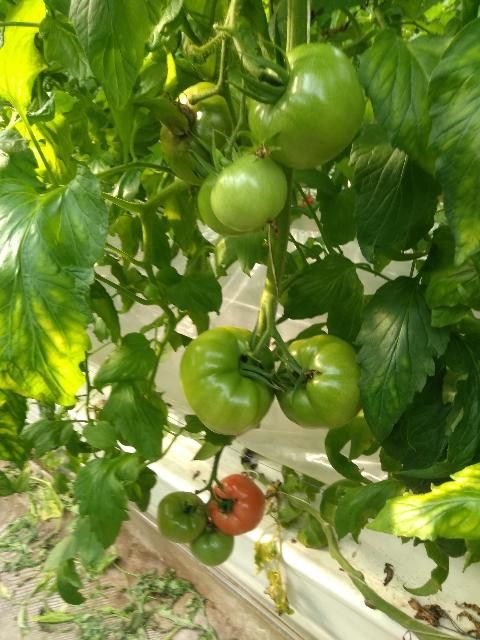b_green: (247, 42, 366, 170), (179, 326, 276, 436), (160, 82, 248, 187), (273, 334, 365, 430), (210, 149, 288, 232), (196, 154, 252, 237), (157, 491, 209, 544), (191, 520, 234, 567)
b_half_ripened: (208, 474, 266, 536)
